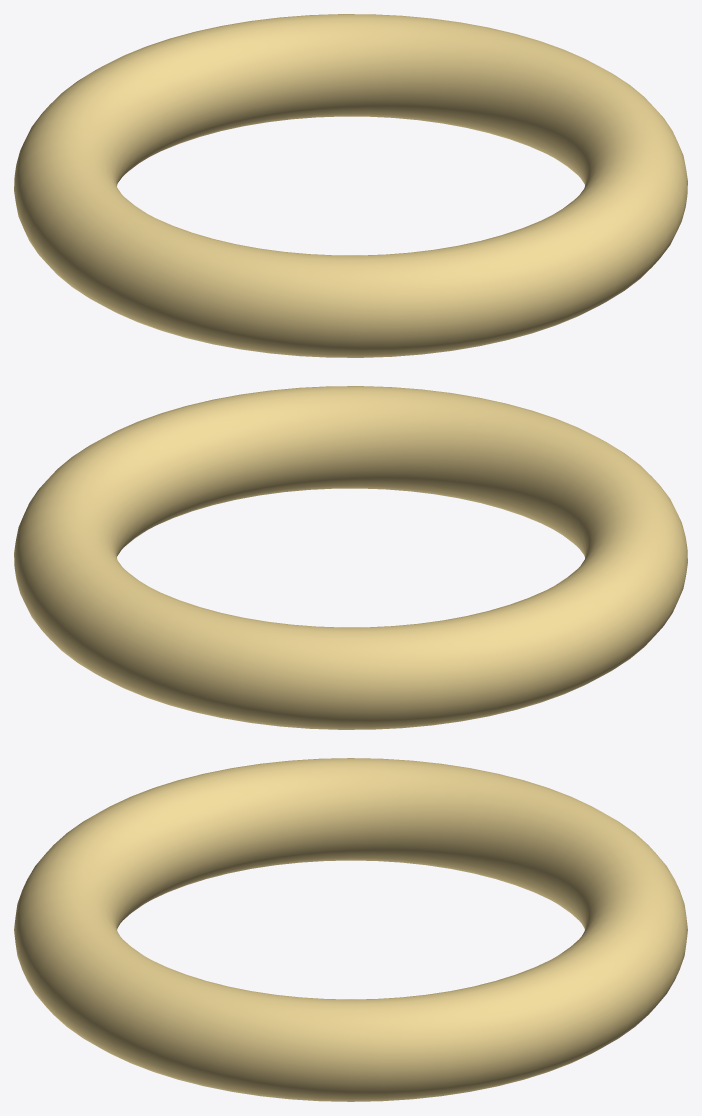
File: alyans.glb
3 renders of one model, top to bottom at view 1: azimuth 30°, elevation 25°; view 2: azimuth 150°, elevation 25°; view 3: azimuth 270°, elevation 25°, orthographic.
Parts seen in each view (by area): view 1: Alyans; view 2: Alyans; view 3: Alyans.
Part boxes in pixels (<box>): Alyans: <box>14,14,687,357</box>; Alyans: <box>14,386,687,729</box>; Alyans: <box>14,758,687,1101</box>.
Bounding box in the file's own units: 2.36 × 0.36 × 2.36.
